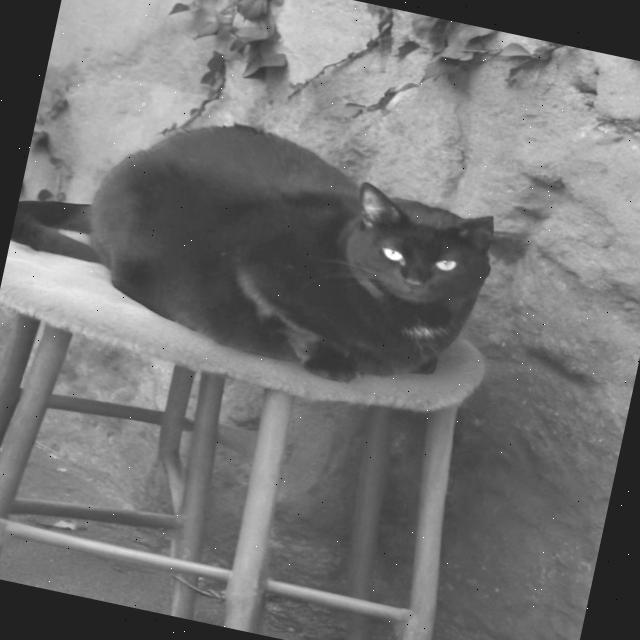bombay_cat: (321, 172, 510, 334)
